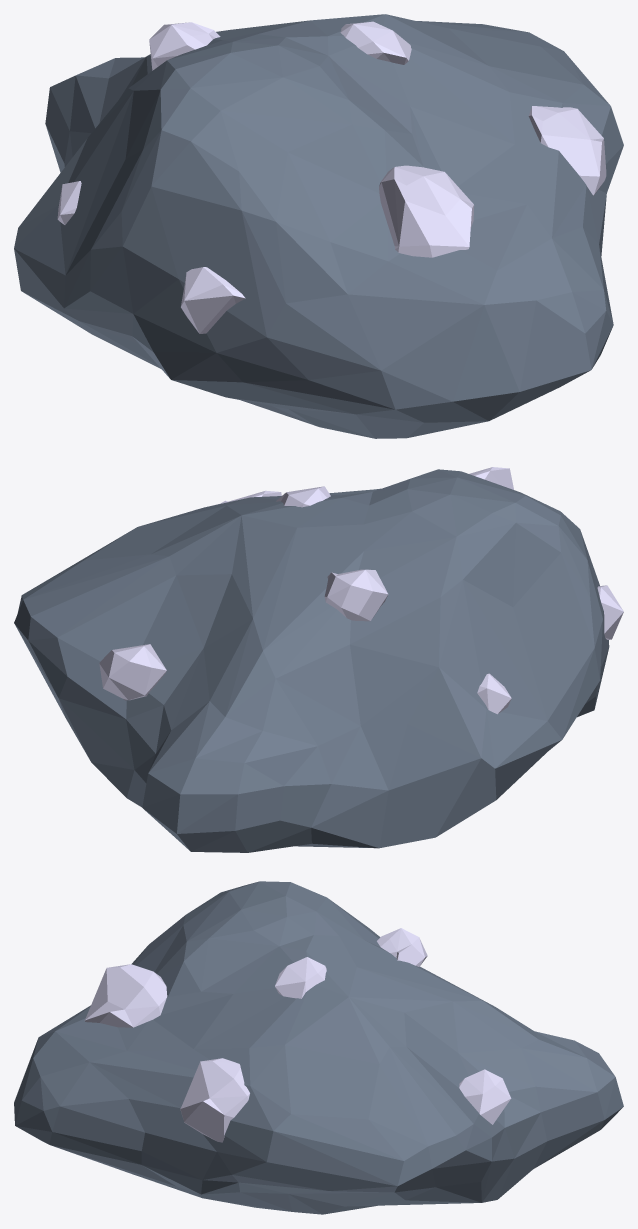
The model's file is stone0-silver.obj.
3 renders of one model, top to bottom at view 1: azimuth 30°, elevation 25°; view 2: azimuth 150°, elevation 25°; view 3: azimuth 270°, elevation 25°, orthographic. The views are drawn at different scales.
Visible parts, largest first — view 1: Sphere, Sphere.001, Sphere.002_Sphere.001, Sphere.007_Sphere.001, Sphere.005_Sphere.001, Sphere.004_Sphere.001, Sphere.006_Sphere.001; view 2: Sphere, Sphere.003_Sphere.001, Sphere.004_Sphere.001, Sphere.006_Sphere.001, Sphere.007_Sphere.001, Sphere.005_Sphere.001, Sphere.001; view 3: Sphere, Sphere.002_Sphere.001, Sphere.001, Sphere.003_Sphere.001, Sphere.005_Sphere.001, Sphere.004_Sphere.001.
Boxes of the visible parts, x1,y1,x2,y2 form: Sphere: [14, 14, 623, 438]; Sphere.001: [379, 165, 474, 257]; Sphere.002_Sphere.001: [528, 106, 606, 195]; Sphere.007_Sphere.001: [181, 267, 245, 333]; Sphere.005_Sphere.001: [340, 21, 411, 64]; Sphere.004_Sphere.001: [149, 22, 220, 70]; Sphere.006_Sphere.001: [57, 181, 81, 224]; Sphere: [14, 469, 609, 852]; Sphere.003_Sphere.001: [99, 644, 166, 700]; Sphere.004_Sphere.001: [324, 569, 388, 621]; Sphere.006_Sphere.001: [477, 673, 511, 714]; Sphere.007_Sphere.001: [597, 585, 623, 639]; Sphere.005_Sphere.001: [276, 486, 330, 507]; Sphere.001: [469, 467, 513, 489]; Sphere: [14, 881, 623, 1214]; Sphere.002_Sphere.001: [180, 1058, 249, 1142]; Sphere.001: [84, 964, 167, 1027]; Sphere.003_Sphere.001: [459, 1069, 511, 1124]; Sphere.005_Sphere.001: [275, 957, 326, 998]; Sphere.004_Sphere.001: [377, 928, 427, 966].
Size of the model in its own units: 2.49 by 1.53 by 3.07.
